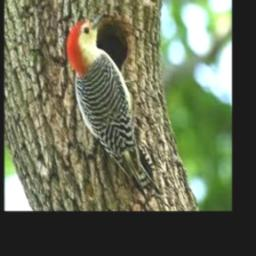Woodpecker: (67, 12, 164, 205)
